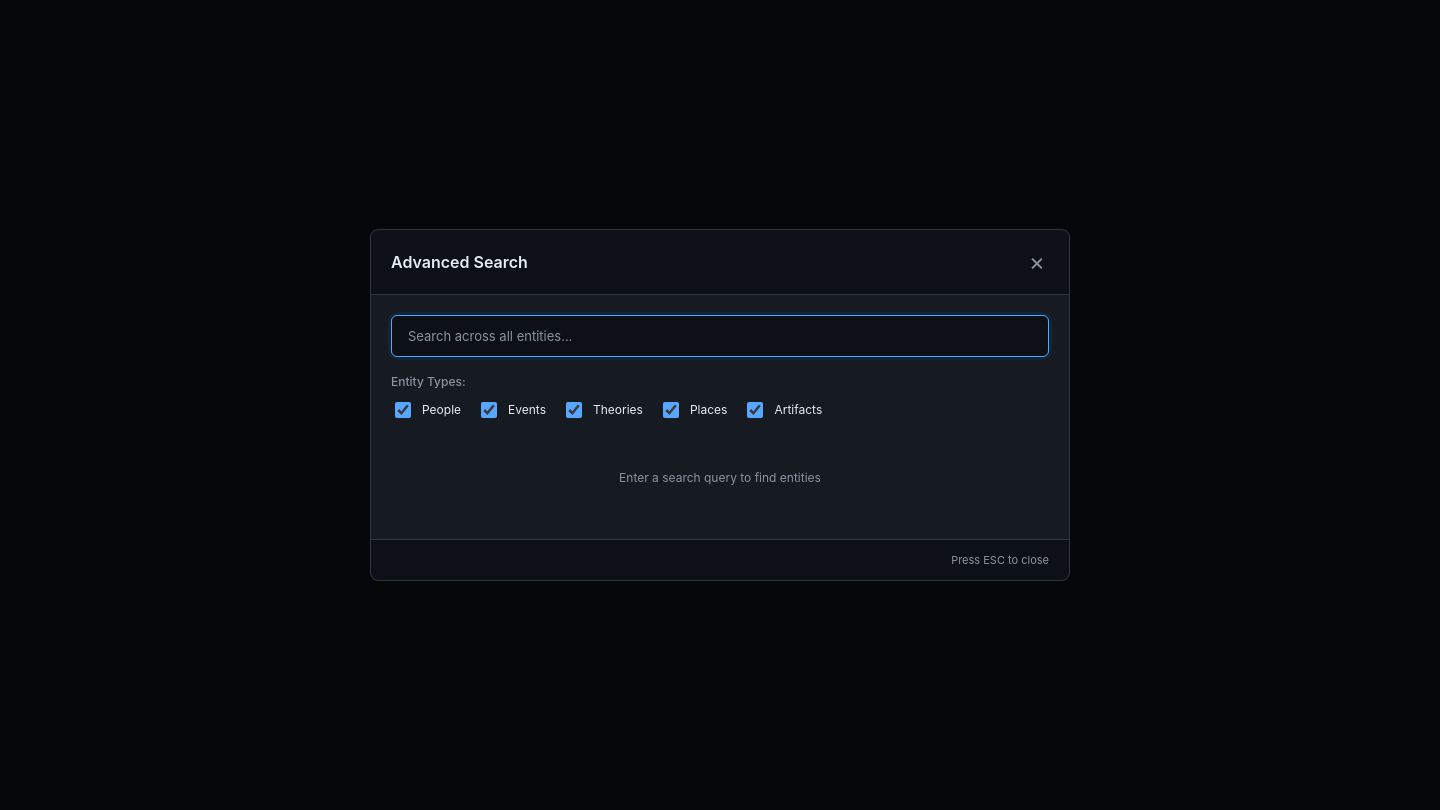
Test: AdvancedSearch › displays search results
The image size is (1440, 810).
Type "greece" into the field with placeholder "Search across all entities...".
click(720, 336); type("greece")  # box x1=391 y1=315 x2=1049 y2=357
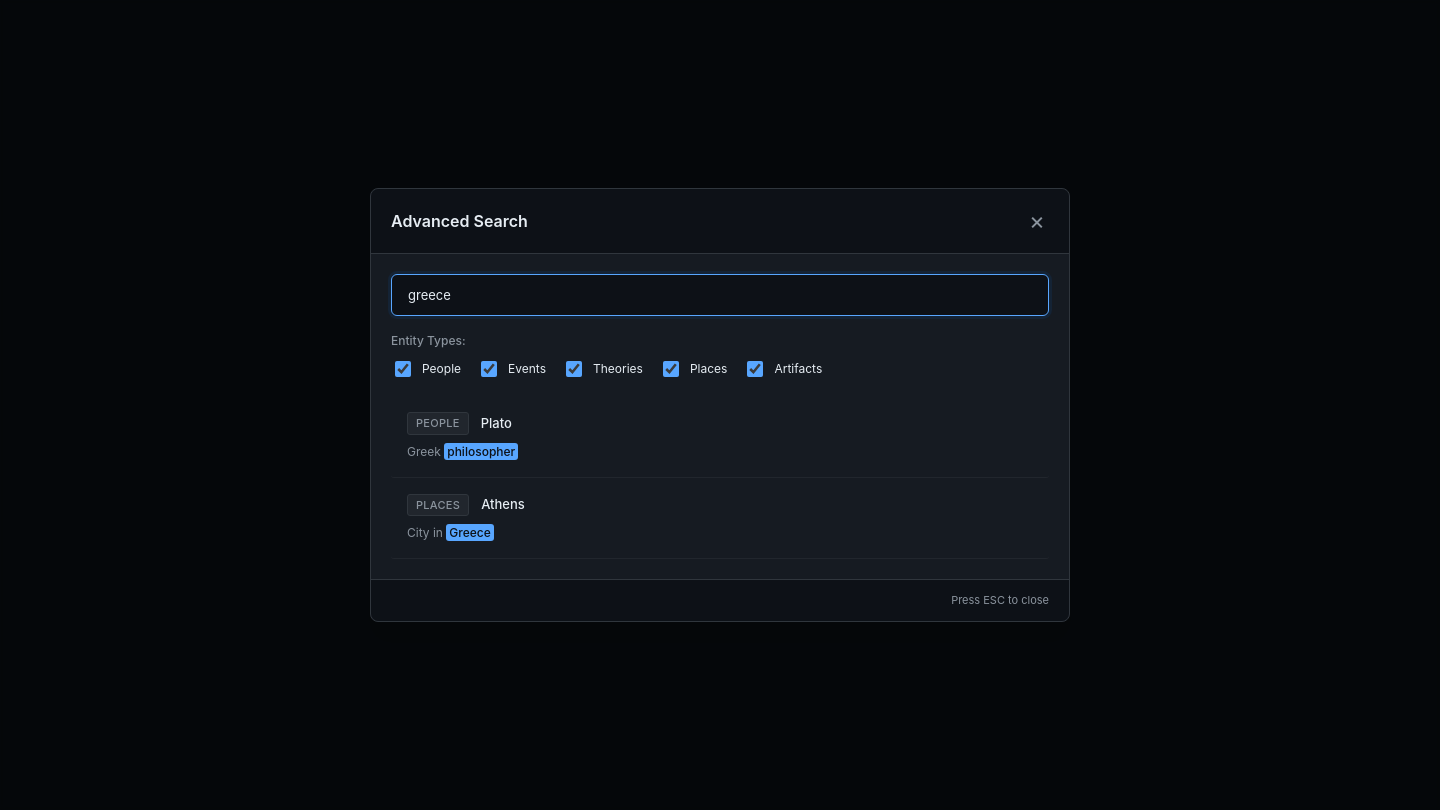
Expected: the text "Plato" is shown, x1=481 y1=415 x2=512 y2=431
Expected: the text "Athens" is shown, x1=481 y1=496 x2=525 y2=512
